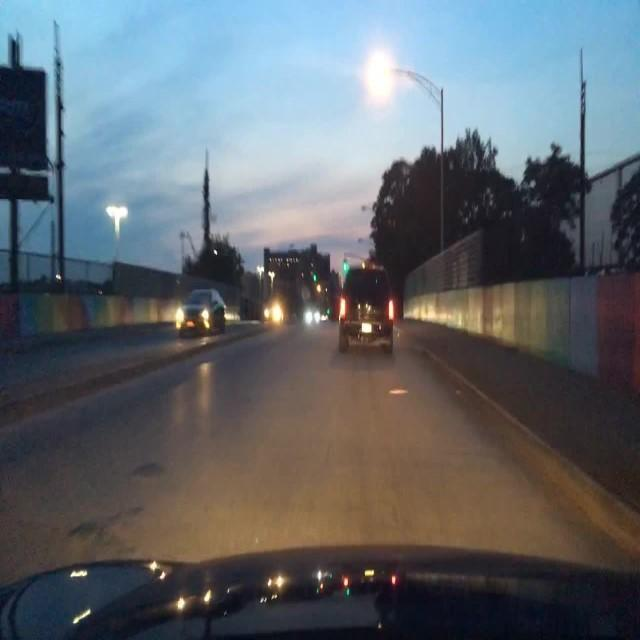normal: (333, 256, 403, 367)
